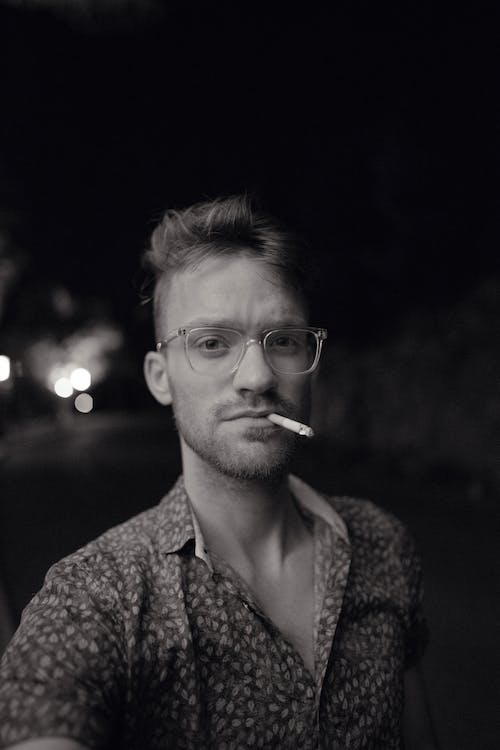cigarette: (265, 413, 316, 439)
